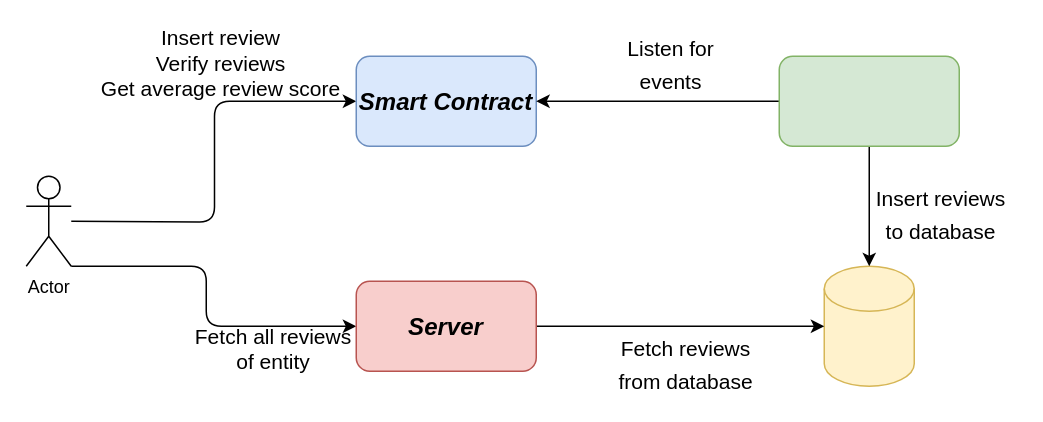
This 1043x422 diagram has some shape labels left out. The shapes that lost their labels are listed below. From the top down, each one's centre as x and y in pixels, then its label:
the point at 868,100: Oracle
the point at 868,325: DB
